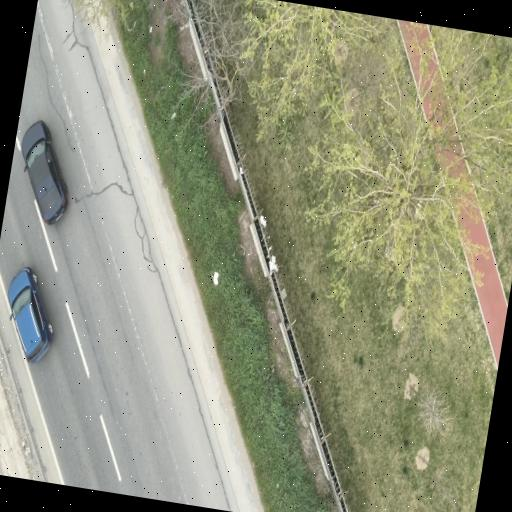car: (21, 121, 67, 224), (8, 268, 53, 363)
